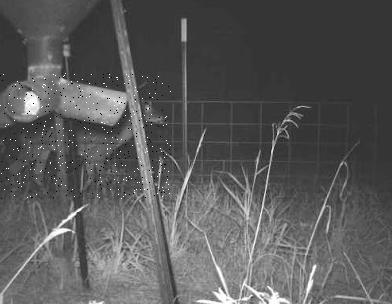Deer: (0, 73, 171, 199)
